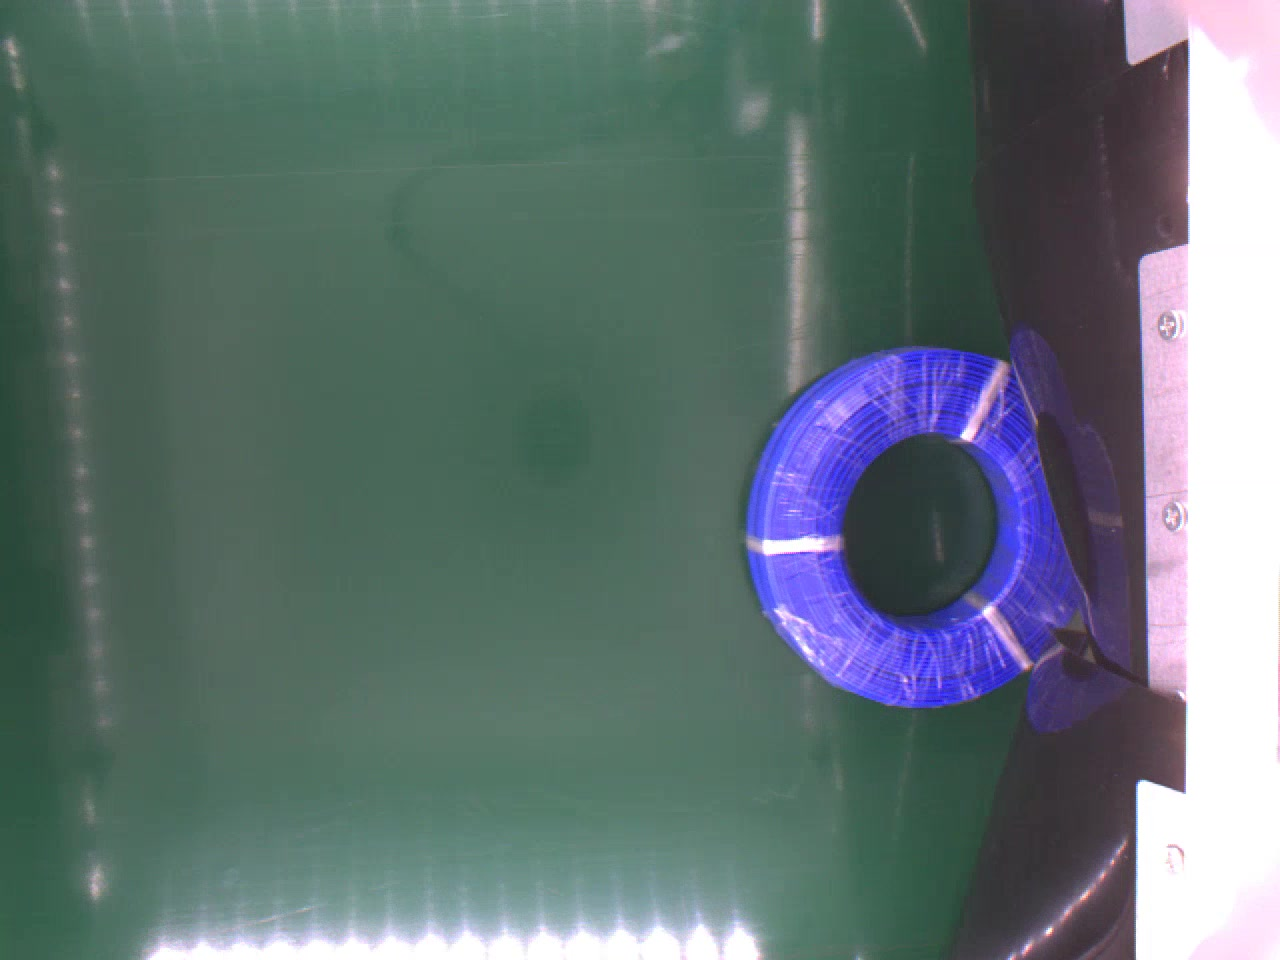blue: (743, 343, 1080, 705)
